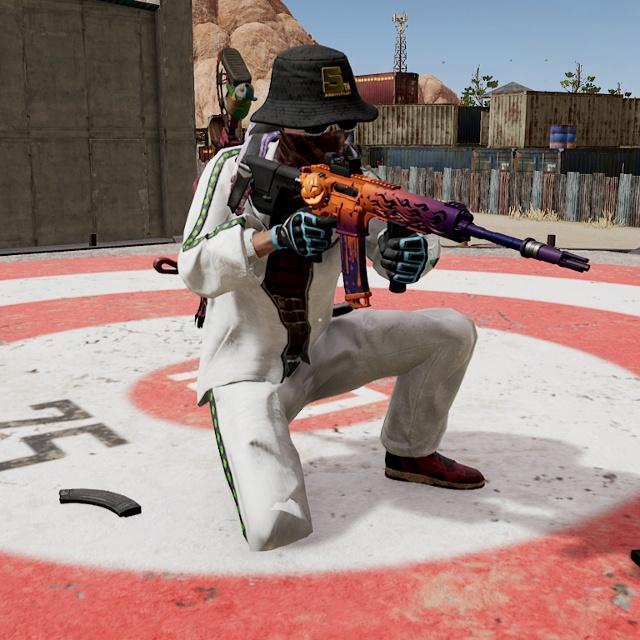head: (251, 44, 369, 169)
people: (167, 40, 494, 552)
